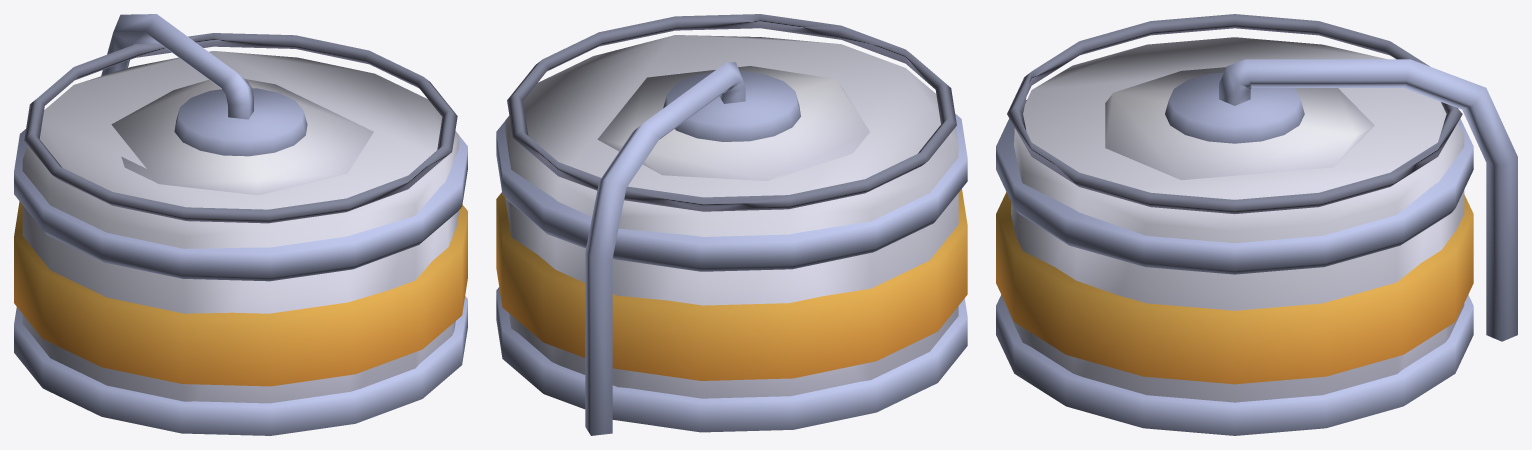
The model's file is detail-tank-large.lod.glb.
The picture shows the model from 3 angles, left to right: view 1: azimuth 30°, elevation 25°; view 2: azimuth 150°, elevation 25°; view 3: azimuth 270°, elevation 25°; orthographic projection. The views are drawn at different scales.
Parts seen in each view (by area): view 1: detail-tank-large; view 2: detail-tank-large; view 3: detail-tank-large.
Boxes of the visible parts, x1=… form: detail-tank-large: x1=14, y1=14, x2=467, y2=435; detail-tank-large: x1=496, y1=14, x2=967, y2=435; detail-tank-large: x1=996, y1=14, x2=1517, y2=435.
Bounding box in the file's own units: 1.51 × 0.9616 × 1.65.
Materials: 1 (1 with a texture image).
